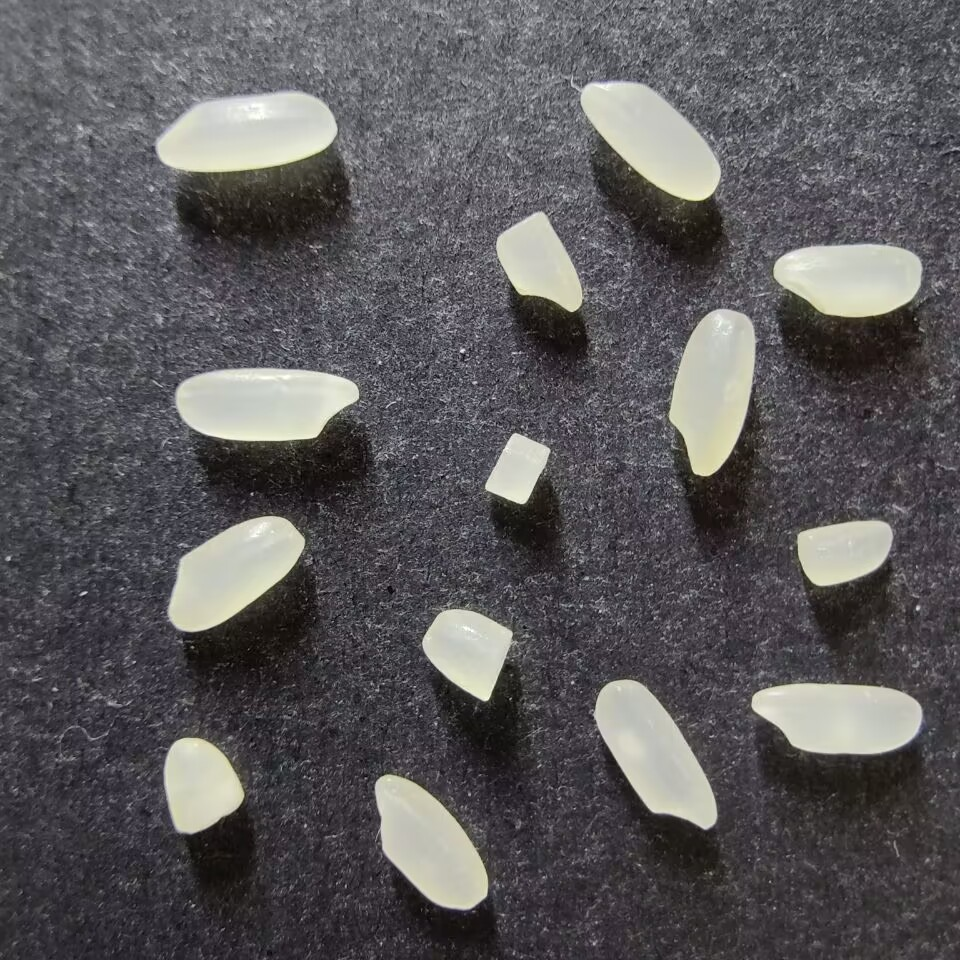broken: (495, 209, 582, 312), (420, 608, 513, 701), (163, 736, 244, 834), (796, 519, 892, 586), (483, 433, 551, 504)
rice: (594, 680, 717, 829), (579, 81, 721, 201), (167, 516, 304, 632), (374, 773, 488, 910), (155, 91, 337, 173), (667, 308, 755, 476), (174, 368, 359, 441), (749, 682, 922, 755), (772, 243, 922, 317)
